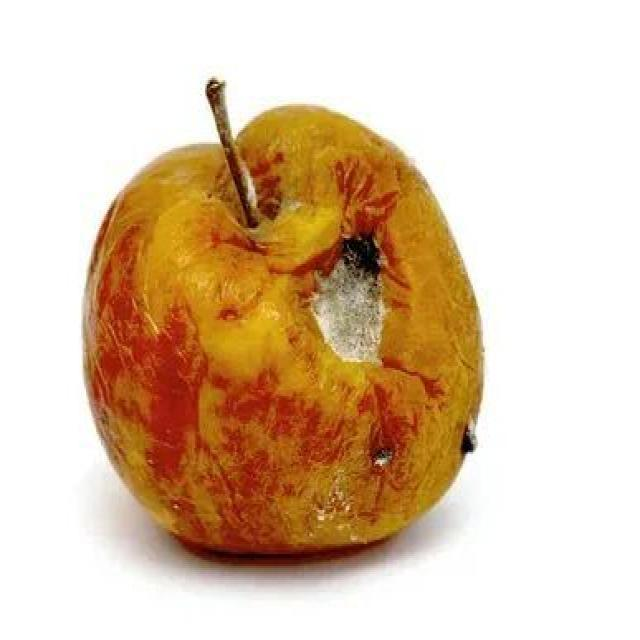Rotten: (104, 125, 484, 540)
